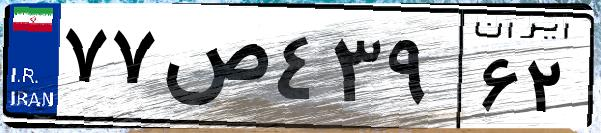2: (525, 38, 570, 115)
3: (330, 28, 385, 110)
4: (270, 28, 330, 110)
6: (475, 38, 525, 113)
7: (57, 26, 110, 100), (110, 28, 158, 98)
9: (385, 28, 445, 110)
ص: (158, 20, 270, 120)
